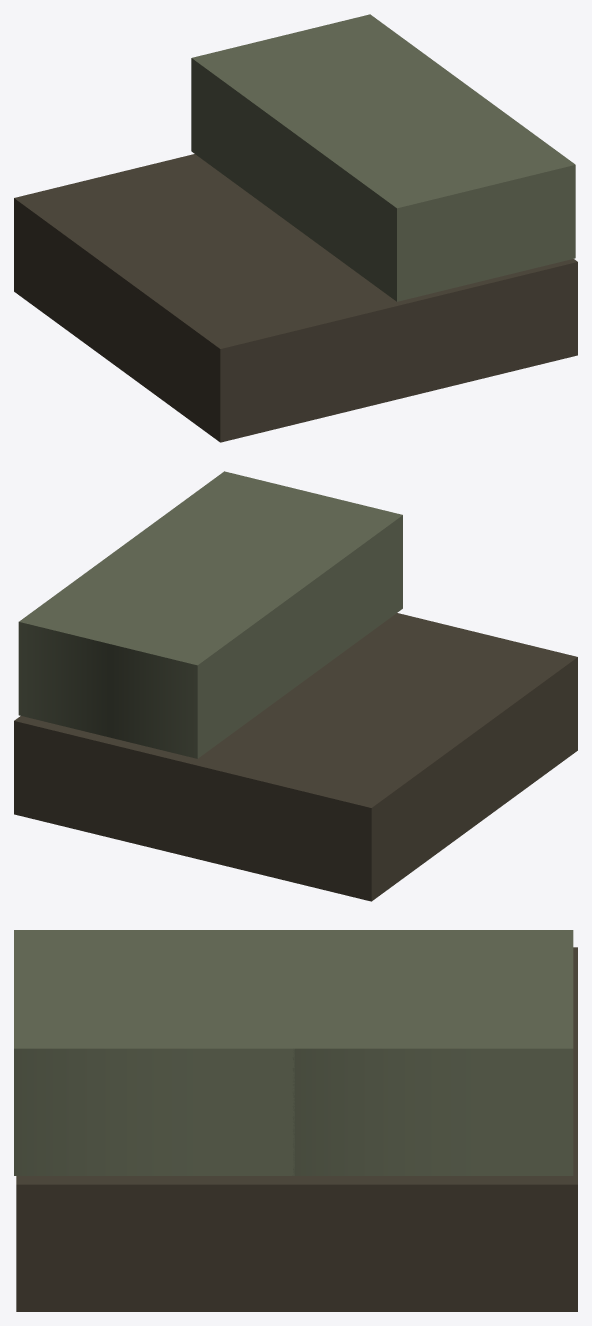
The model's file is Half grass bottom dirt.fbx.
3 renders of one model, top to bottom at view 1: azimuth 30°, elevation 25°; view 2: azimuth 150°, elevation 25°; view 3: azimuth 270°, elevation 25°, orthographic. The views are drawn at different scales.
Visible parts, largest first — view 1: polySurface1200; view 2: polySurface1200; view 3: polySurface1200.
Boxes of the visible parts, x1,y1,x2,y2 form: polySurface1200: [14, 14, 577, 442]; polySurface1200: [14, 471, 577, 901]; polySurface1200: [14, 930, 577, 1311].
Bounding box in the file's own units: 56.97 × 29.24 × 57.21.
